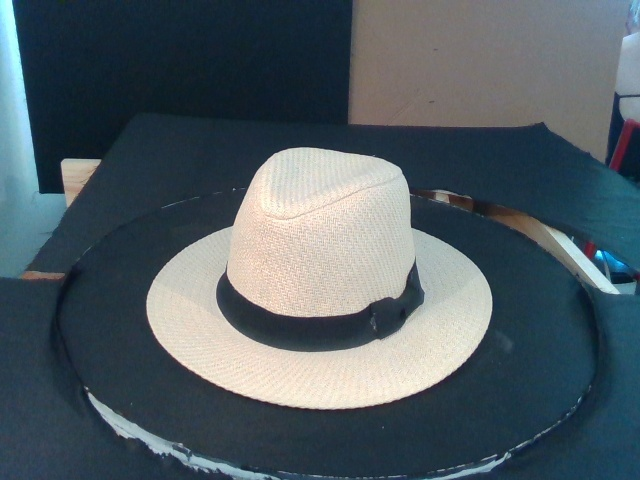hat: (146, 147, 494, 410)
